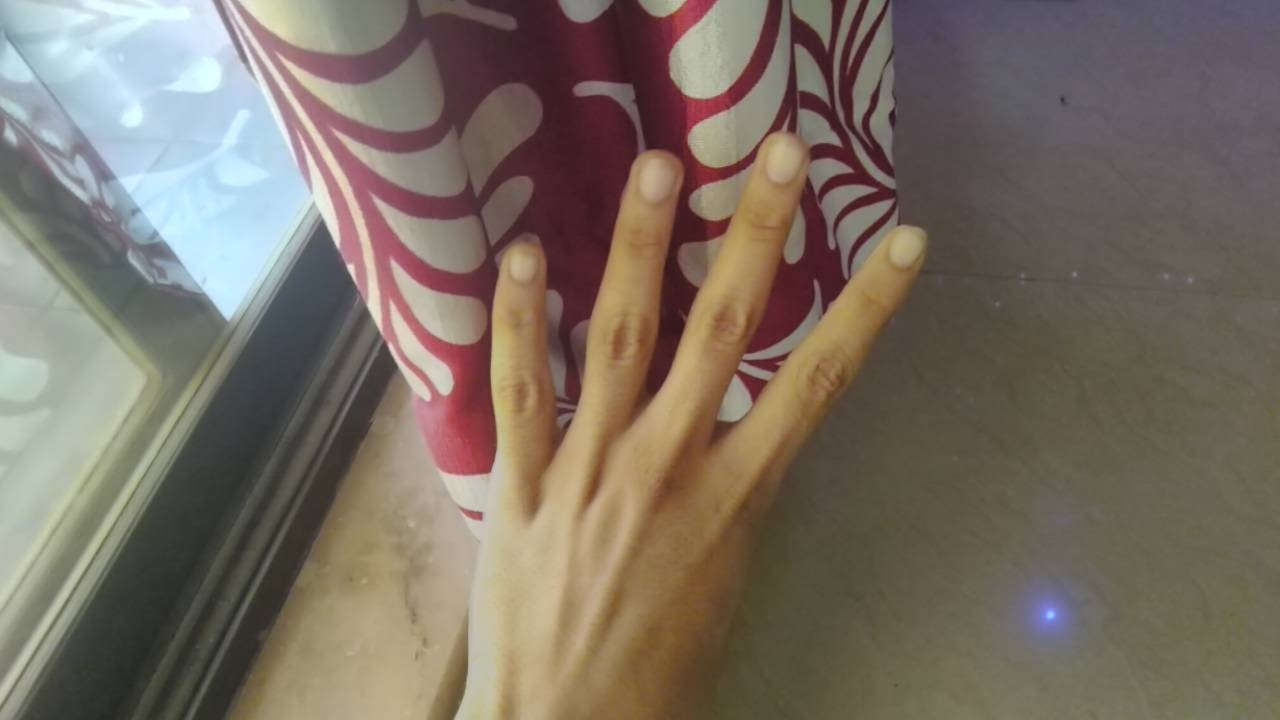fingertip: (740, 126, 814, 196), (616, 144, 688, 212), (490, 232, 552, 302), (874, 216, 940, 274)
